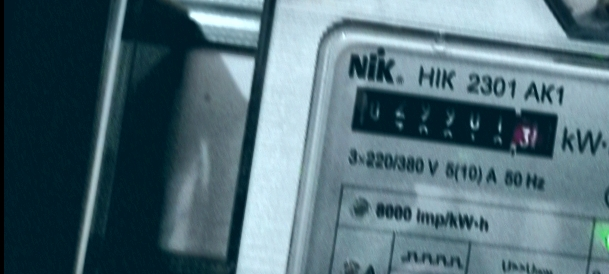0: (468, 106, 486, 133), (367, 98, 385, 122)
1: (494, 110, 510, 136)
2: (394, 97, 412, 121)
3: (518, 125, 536, 150)
9: (444, 105, 459, 129), (419, 100, 434, 123)
screen: (343, 78, 571, 171)
